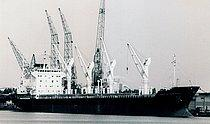Ship: (6, 1, 204, 120)
